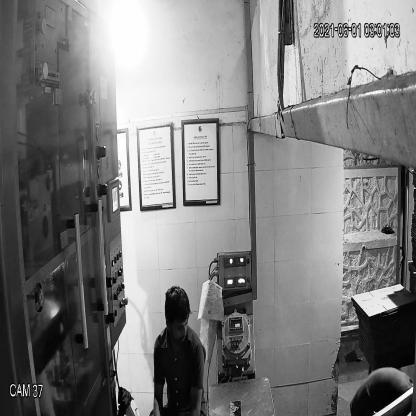no_goggles: (165, 313, 192, 337)
